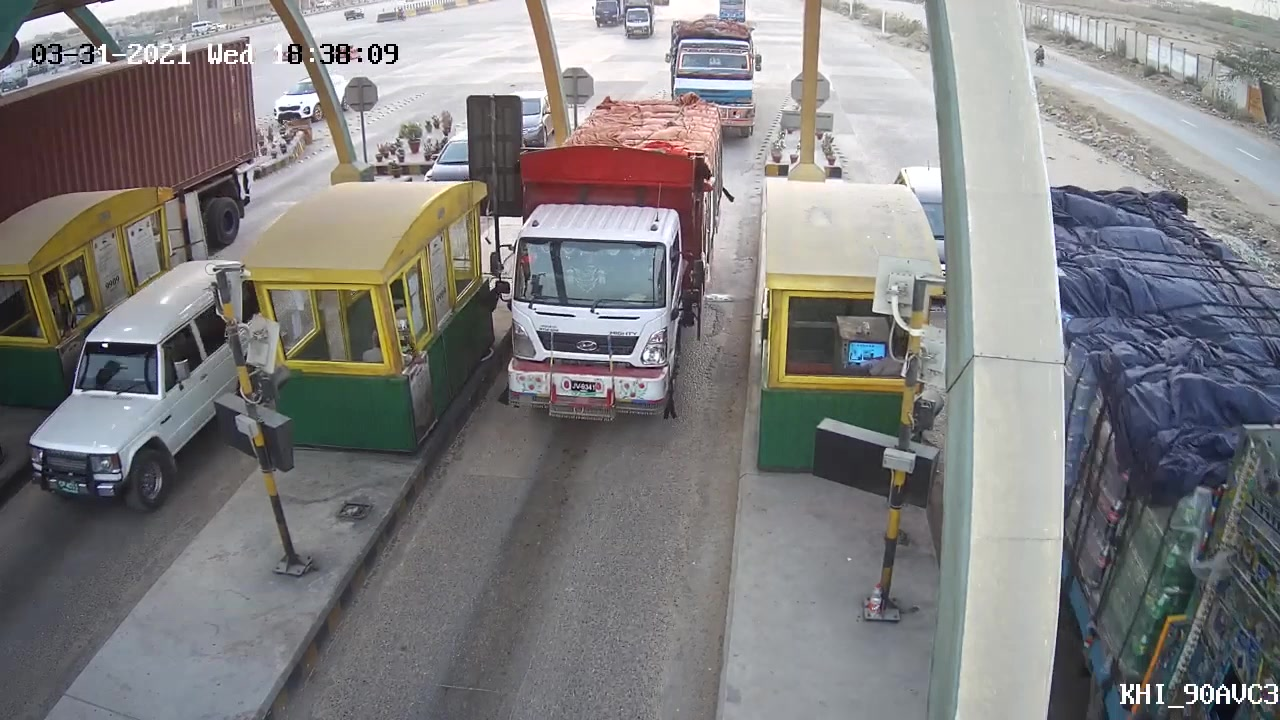F5: (485, 123, 723, 431)
